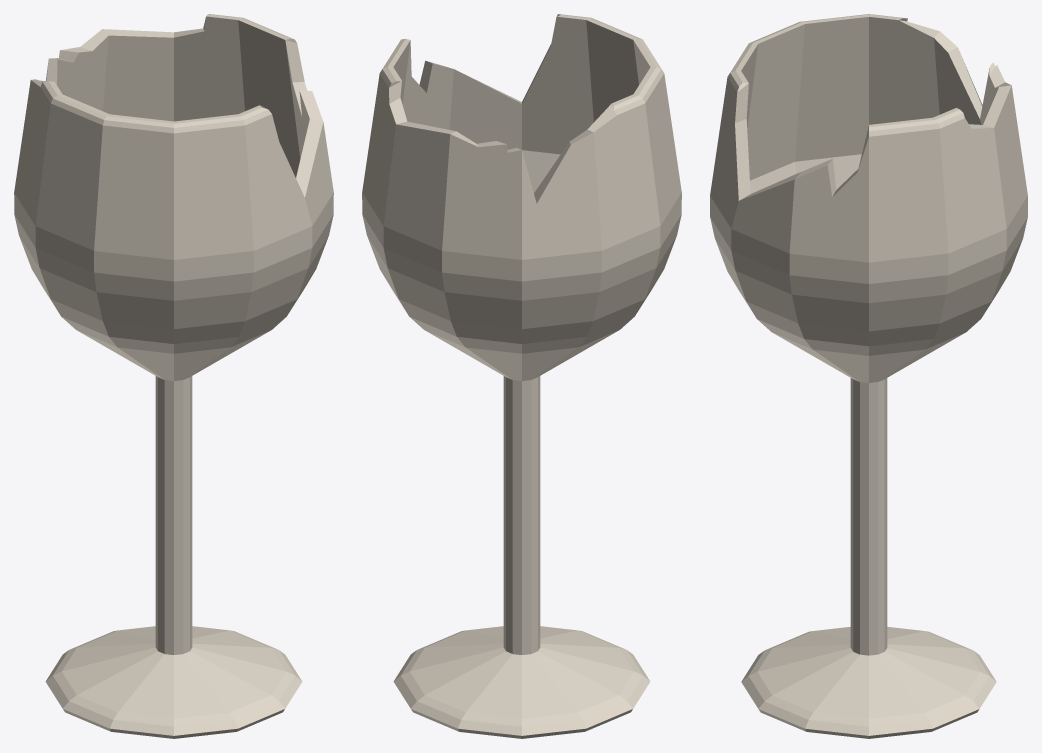
The model's file is Trash_Gelas_00.fbx.
The picture shows the model from 3 angles, left to right: view 1: azimuth 30°, elevation 25°; view 2: azimuth 150°, elevation 25°; view 3: azimuth 270°, elevation 25°; orthographic projection.
Visible parts, largest first — view 1: Gelas_00; view 2: Gelas_00; view 3: Gelas_00.
Part boxes in pixels (x1,y1,x2,y2): Gelas_00: (14,14,333,738); Gelas_00: (362,14,681,738); Gelas_00: (710,14,1027,738).
Size of the model in its own units: 8.4 by 17.93 by 8.4.
